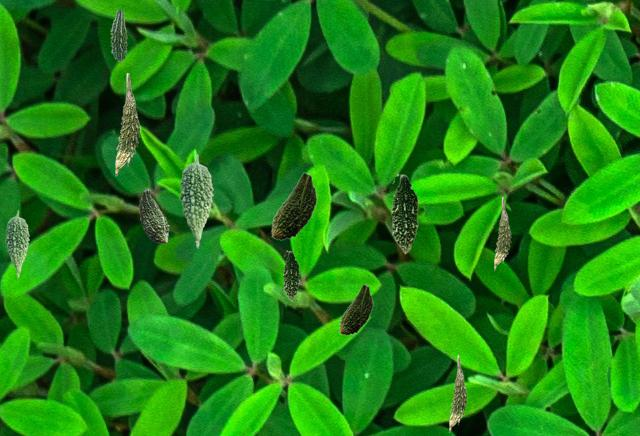ampalaya: (179, 154, 212, 247), (271, 172, 316, 239), (115, 73, 139, 175), (391, 173, 419, 253), (339, 284, 372, 334), (139, 188, 168, 242), (5, 210, 28, 277), (449, 355, 466, 431), (494, 197, 510, 269), (283, 250, 299, 300), (110, 10, 126, 60)
